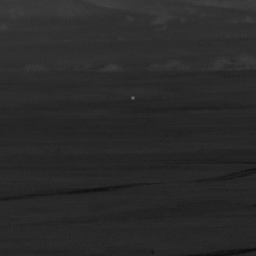Target: (130, 96, 136, 102)
